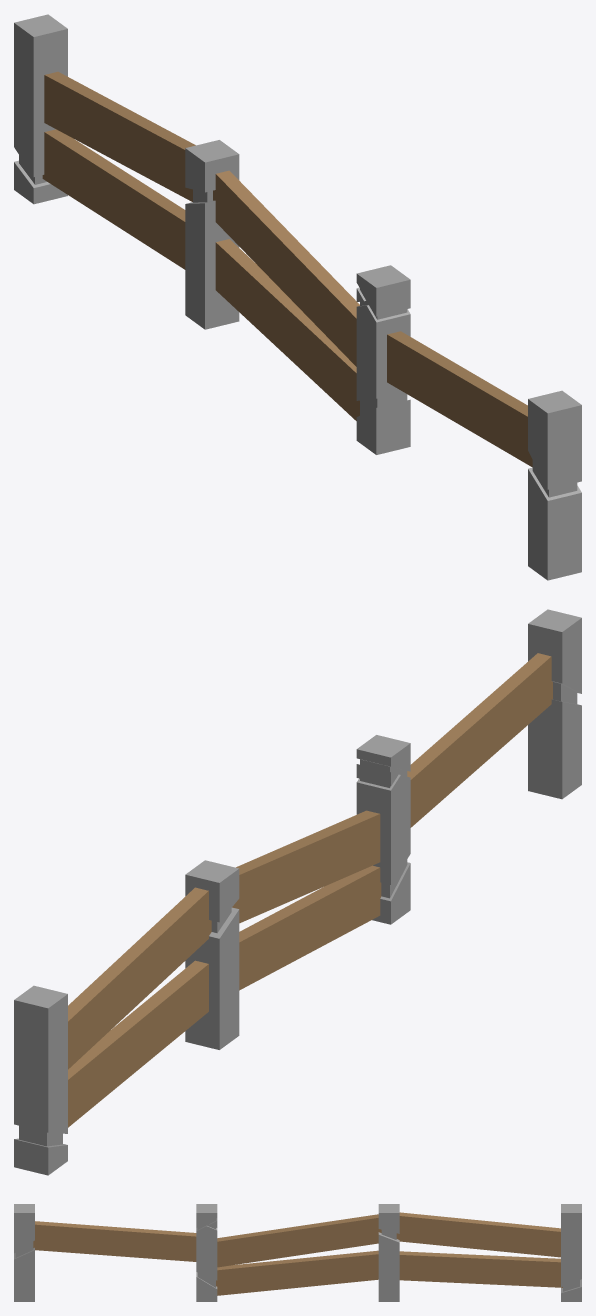
Rendered from Fence_07.fbx.
3 renders of one model, top to bottom at view 1: azimuth 30°, elevation 25°; view 2: azimuth 150°, elevation 25°; view 3: azimuth 270°, elevation 25°, orthographic. The views are drawn at different scales.
Parts seen in each view (by area): view 1: Fence_08; view 2: Fence_08; view 3: Fence_08.
Boxes of the visible parts, x1,y1,x2,y2 form: Fence_08: (14, 14, 581, 580); Fence_08: (14, 609, 581, 1175); Fence_08: (14, 1204, 581, 1301).
Size of the model in its own units: 0.75 by 3.5 by 20.25.
